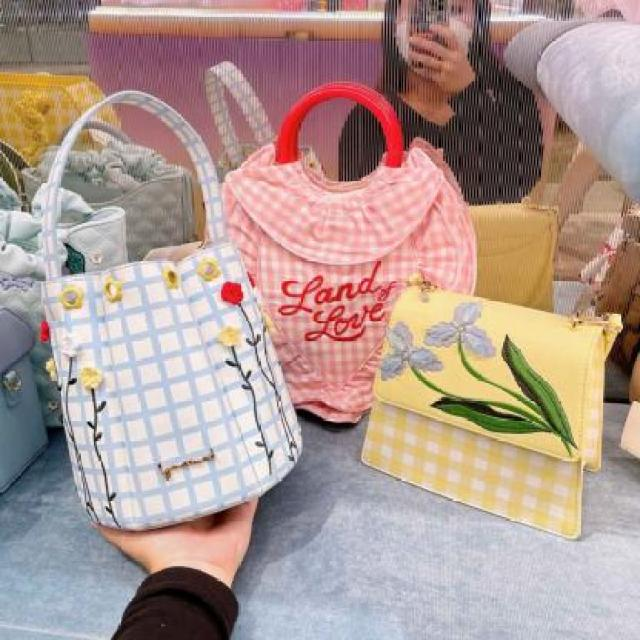Bag: (18, 70, 360, 578), (185, 42, 498, 467), (349, 248, 626, 560)
